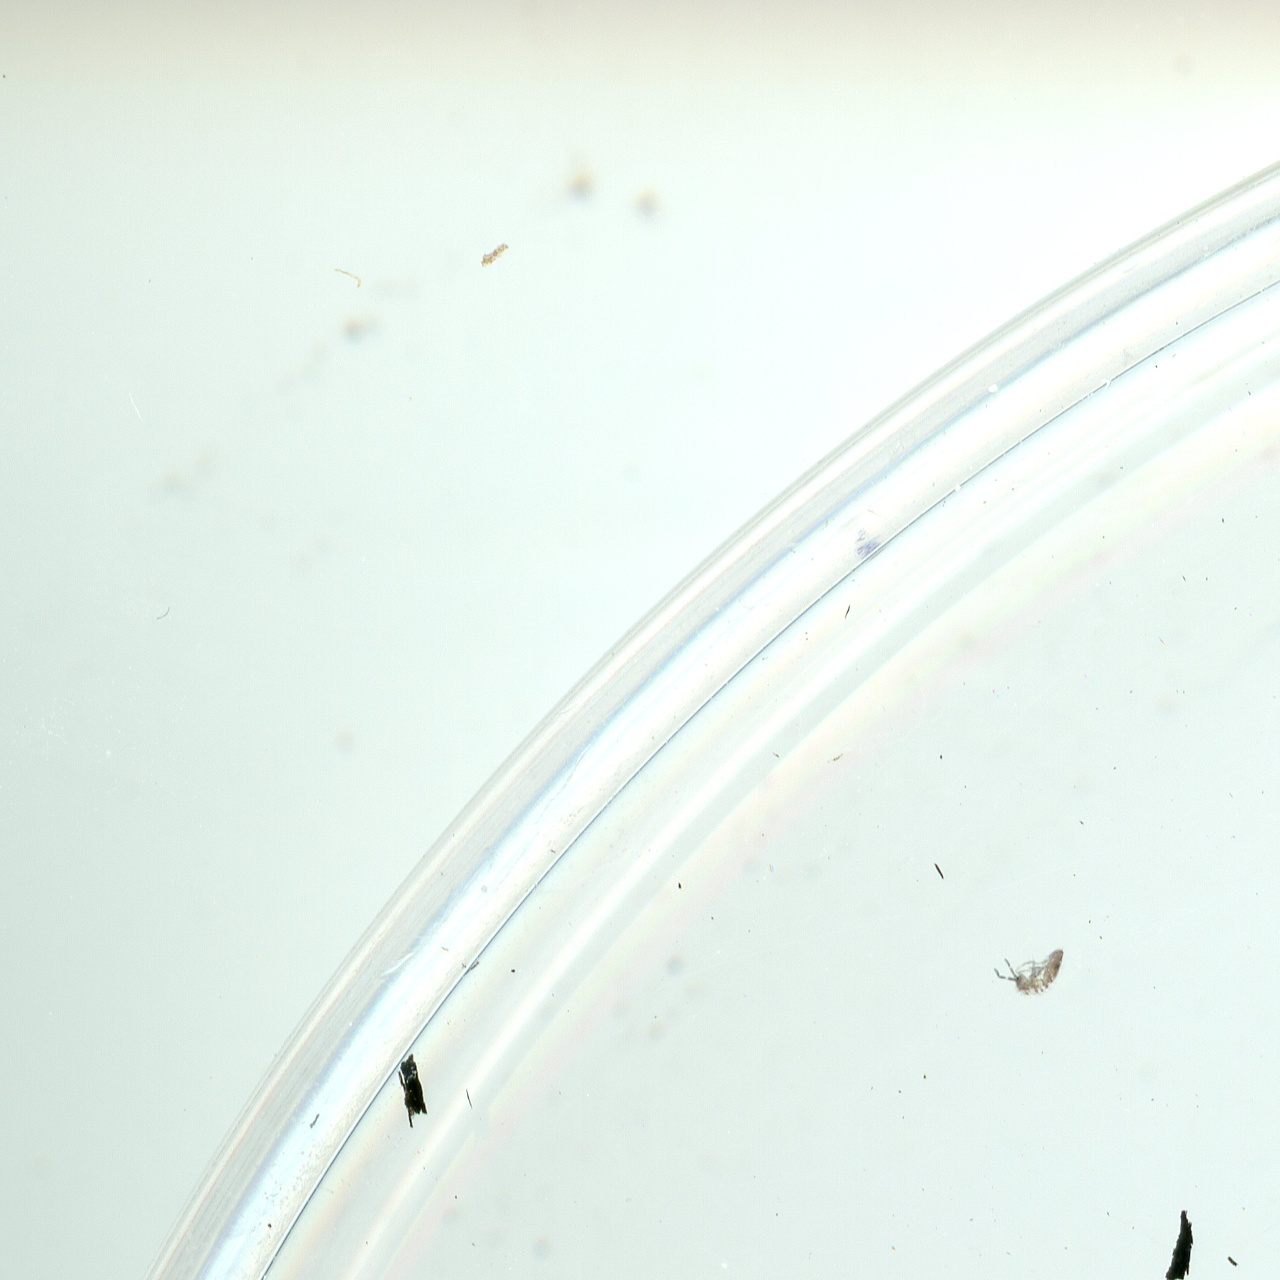arthropod: (992, 946, 1067, 999)
